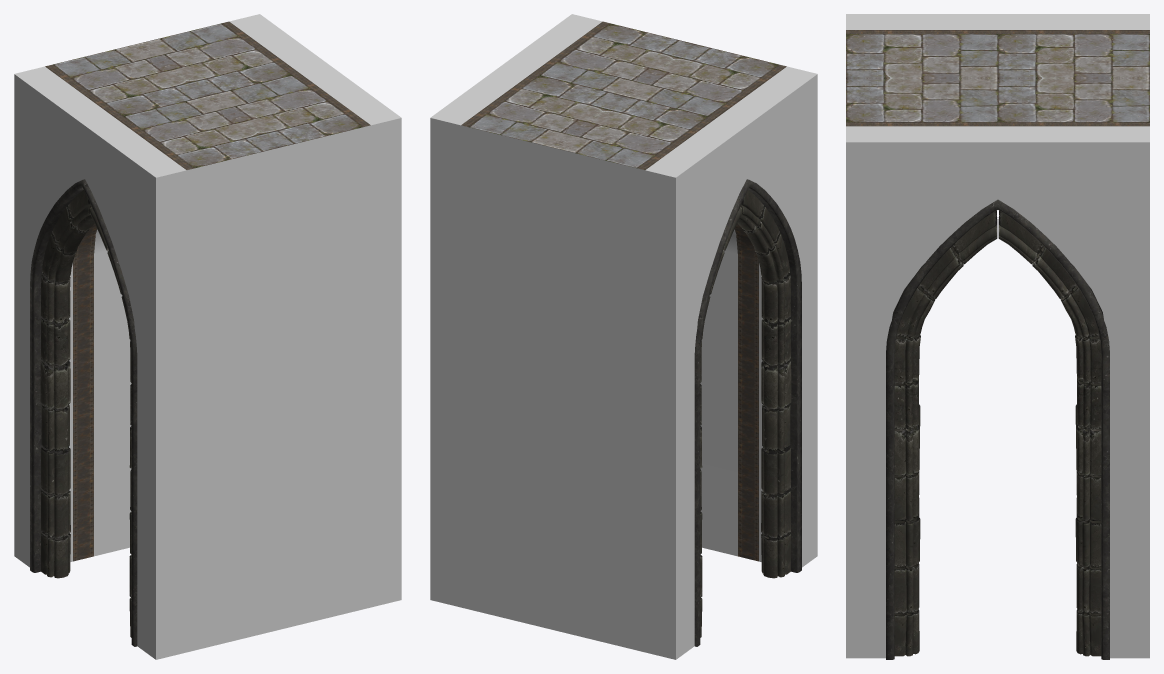
3 renders of one model, left to right at view 1: azimuth 30°, elevation 25°; view 2: azimuth 150°, elevation 25°; view 3: azimuth 270°, elevation 25°, orthographic. The views are drawn at different scales.
Parts seen in each view (by area): view 1: SM_Dowdun_Walkway_Arch_8x8x15_01_LOD0; view 2: SM_Dowdun_Walkway_Arch_8x8x15_01_LOD0; view 3: SM_Dowdun_Walkway_Arch_8x8x15_01_LOD0.
Boxes of the visible parts, bbox=[...] form: SM_Dowdun_Walkway_Arch_8x8x15_01_LOD0: bbox=[14, 14, 401, 659]; SM_Dowdun_Walkway_Arch_8x8x15_01_LOD0: bbox=[430, 14, 817, 659]; SM_Dowdun_Walkway_Arch_8x8x15_01_LOD0: bbox=[846, 14, 1149, 659].
Size of the model in its own units: 8.18 by 15 by 8.
Materials: 5 (4 with a texture image).
